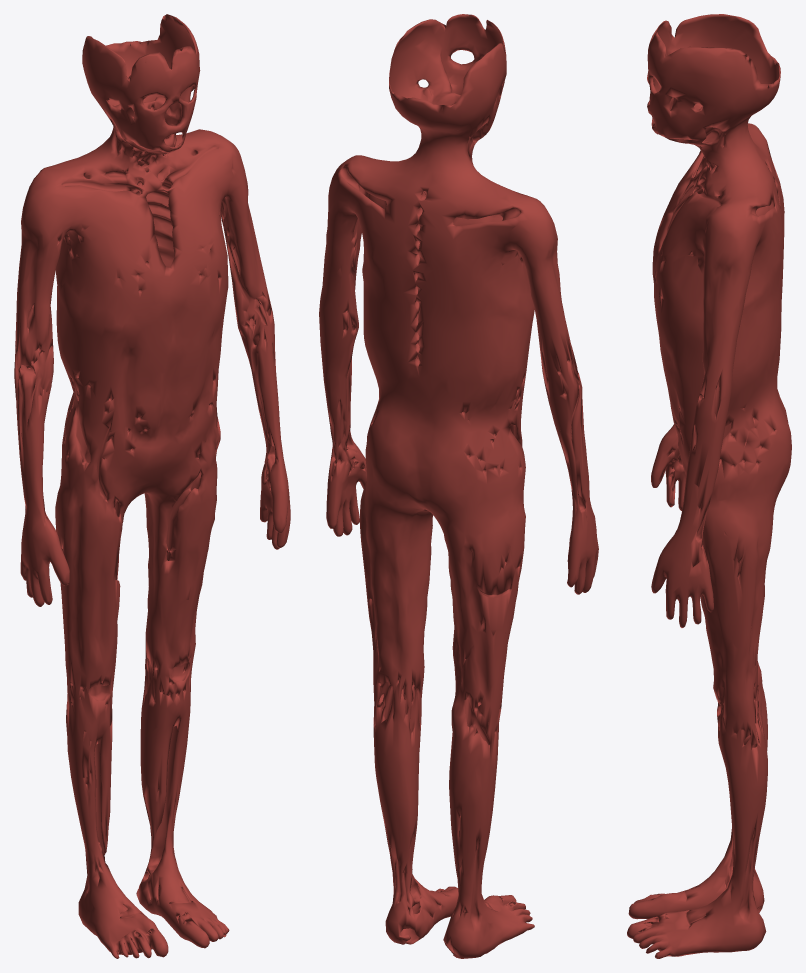
Rendered from pediatric_child_10y_male.muscular.LOD1.glb.
3 renders of one model, left to right at view 1: azimuth 30°, elevation 25°; view 2: azimuth 150°, elevation 25°; view 3: azimuth 270°, elevation 25°, orthographic.
Parts seen in each view (by area): view 1: PEDIATRIC.CHILD_10Y.MALE.MUSCULAR.MUSCLE; view 2: PEDIATRIC.CHILD_10Y.MALE.MUSCULAR.MUSCLE; view 3: PEDIATRIC.CHILD_10Y.MALE.MUSCULAR.MUSCLE.
Part boxes in pixels (box(x1,y1,x2,y2)): PEDIATRIC.CHILD_10Y.MALE.MUSCULAR.MUSCLE: box(14, 14, 290, 958); PEDIATRIC.CHILD_10Y.MALE.MUSCULAR.MUSCLE: box(319, 14, 598, 958); PEDIATRIC.CHILD_10Y.MALE.MUSCULAR.MUSCLE: box(627, 14, 791, 958).
Bounding box in the file's own units: 0.4048 × 1.35 × 0.2234.
